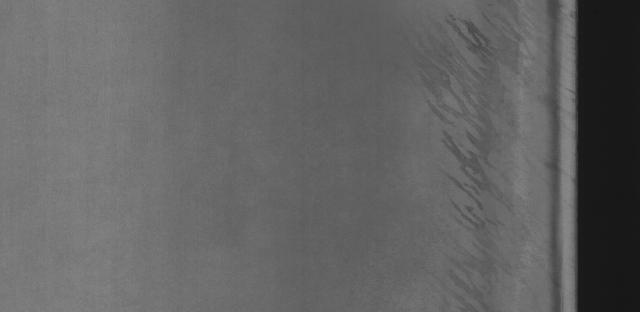water_spot: (406, 3, 526, 296)
